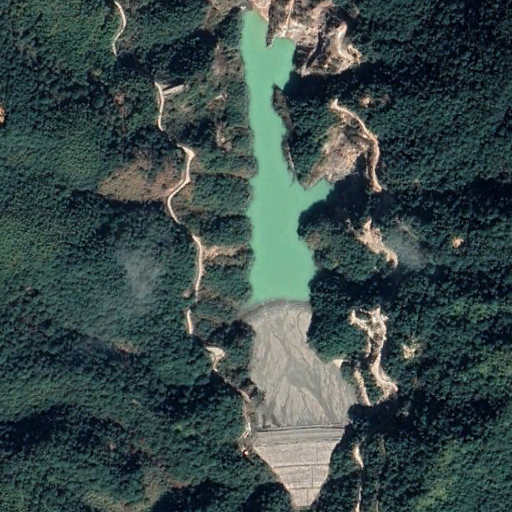tp: (230, 3, 358, 512)
